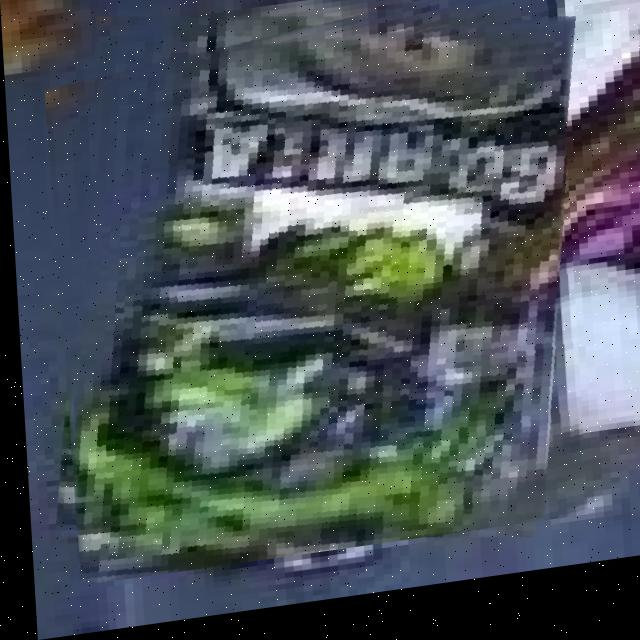can: (41, 0, 581, 588)
